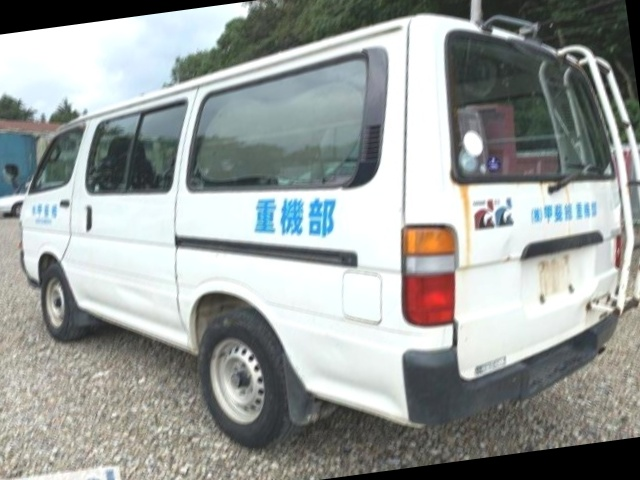van: (0, 0, 640, 473)
